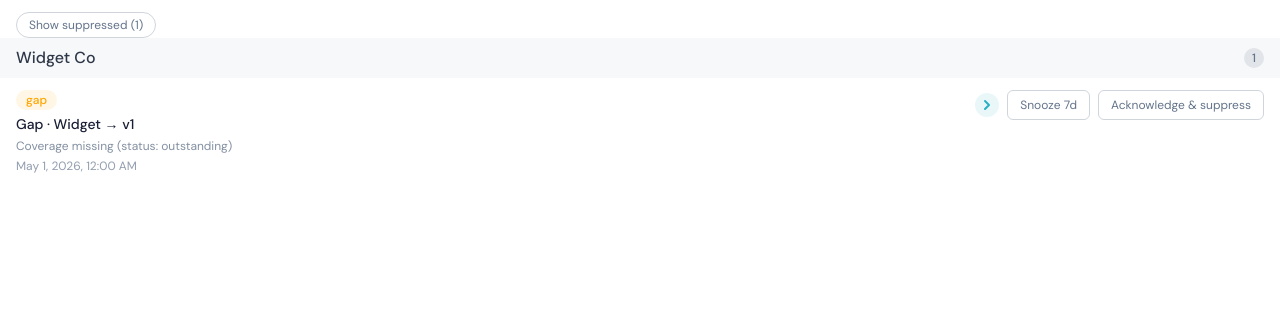
Test case: WorkingListTable › suppressed rows show dismissed_by_user and dismiss_reason annotation when shown
Click the button "Show suppressed (1)". click: (86, 25)
box: x1=16 y1=12 x2=156 y2=38
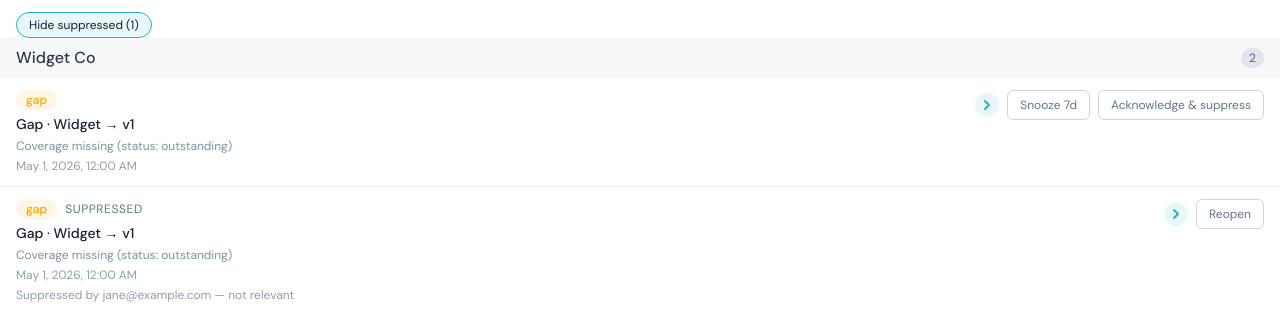
Expected: the text "Suppressed by jane@example.com — not relevant" is shown, x1=16 y1=287 x2=294 y2=303
